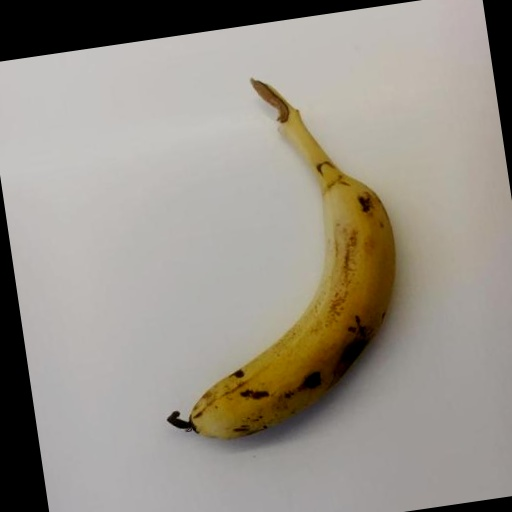fruit: (168, 80, 394, 438)
